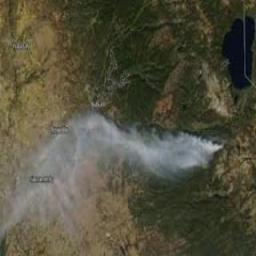Low smoke: (17, 111, 217, 232)
